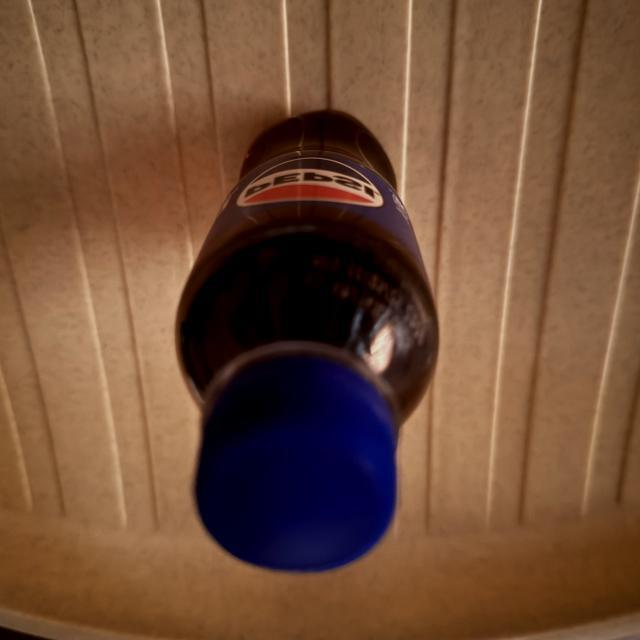pepsi: (174, 110, 439, 574)
